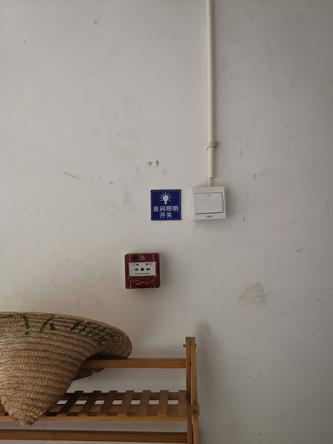switch: (195, 189, 227, 218)
